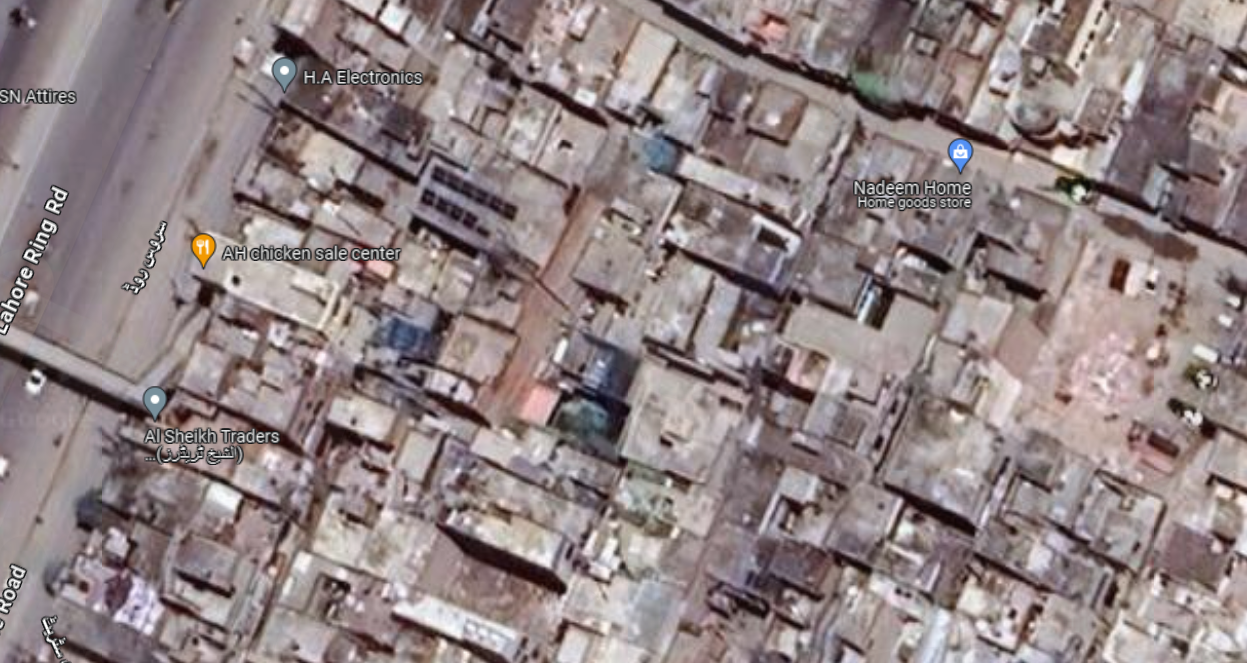solar-panel: (423, 161, 523, 235)
